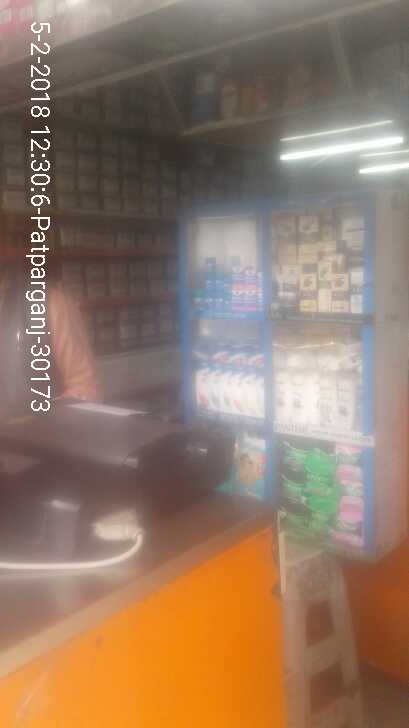vicks: (189, 248, 267, 317)
